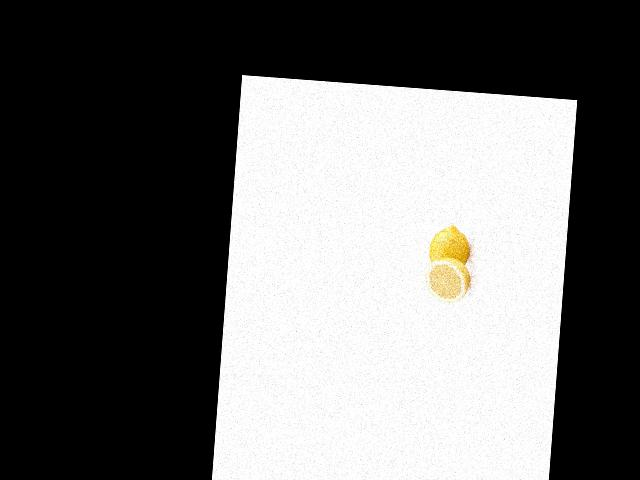lemon: (425, 221, 476, 272)
